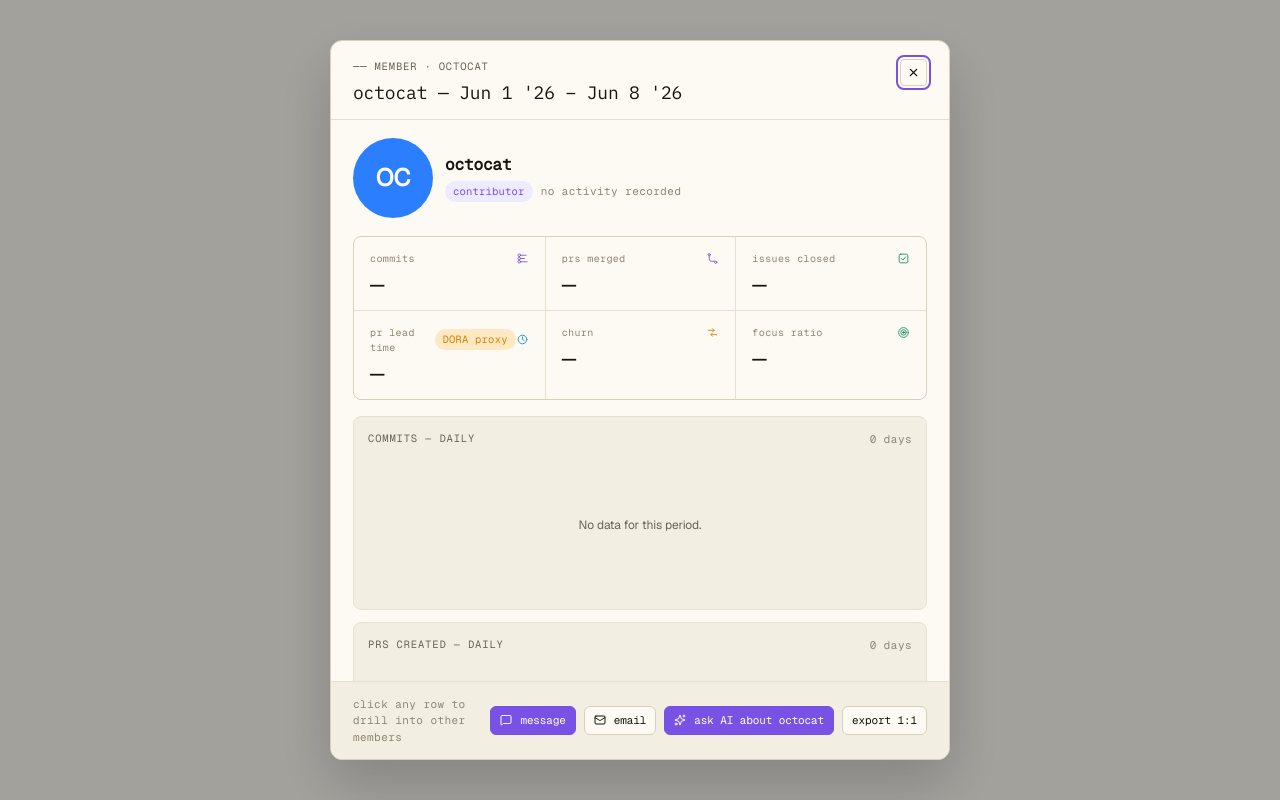
it: MemberDetailModal — DORA proxy badge (R-F-08) › exposes the proxy caveat note on hover
Expected: the text "pr lead time" is shown, [370,326,415,354]
Hover over the text "DORA proxy".
mouse_move(475, 340)  # box [434,329,516,350]
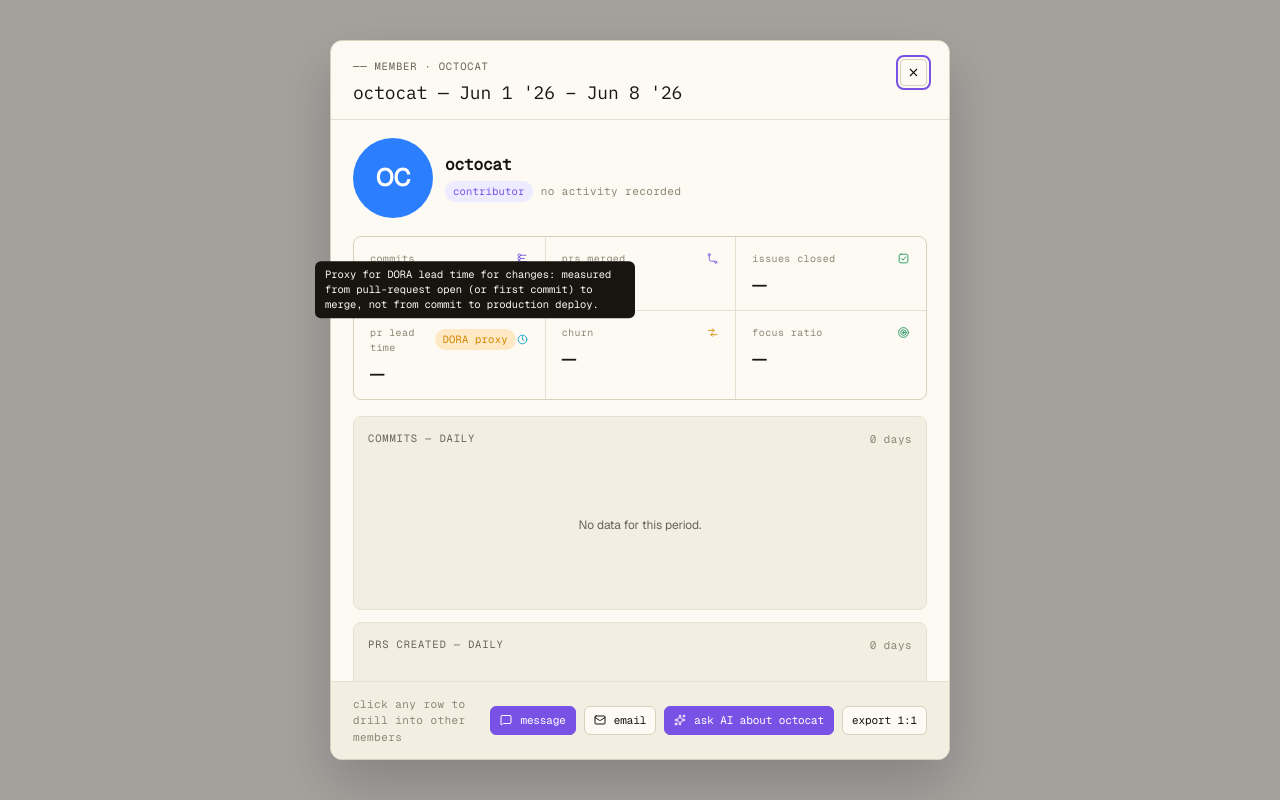
Now the text "not from commit to production deploy" is shown, box [325,267,611,311]
